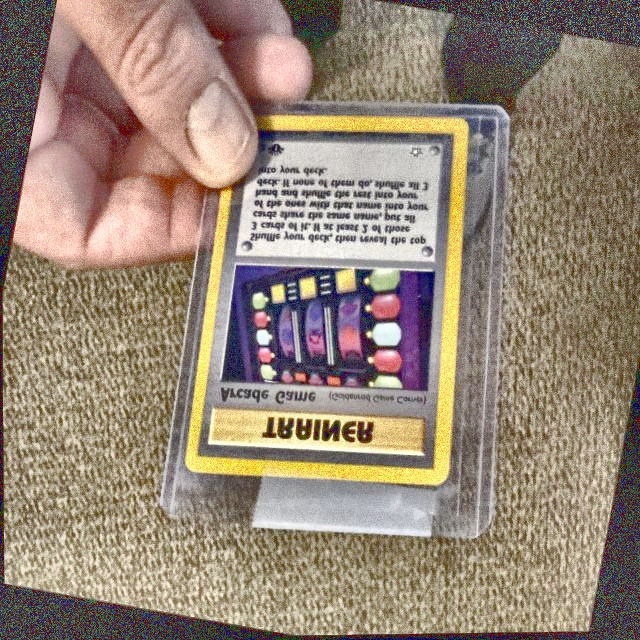card: (182, 115, 469, 488)
